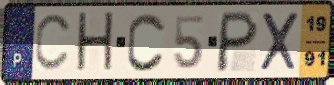5: (171, 13, 206, 71)
C: (125, 11, 168, 74), (33, 12, 75, 74)
H: (74, 9, 116, 75)
P: (213, 9, 261, 75)
X: (258, 10, 301, 73)
